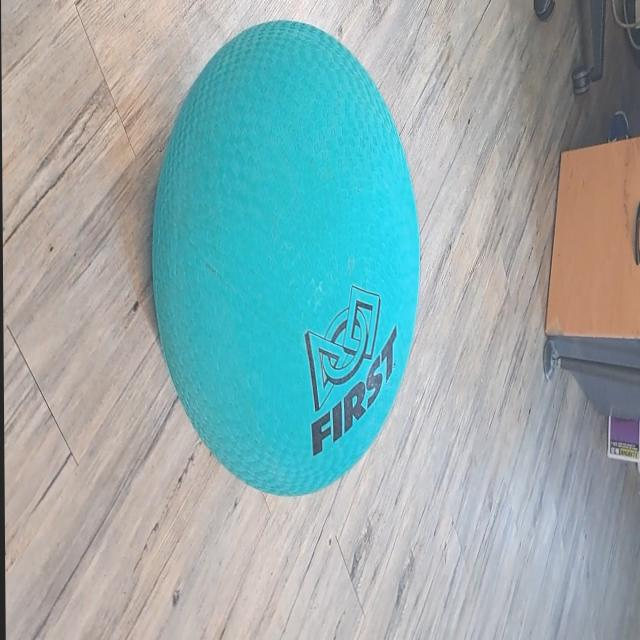ALGAE: (147, 18, 423, 498)
